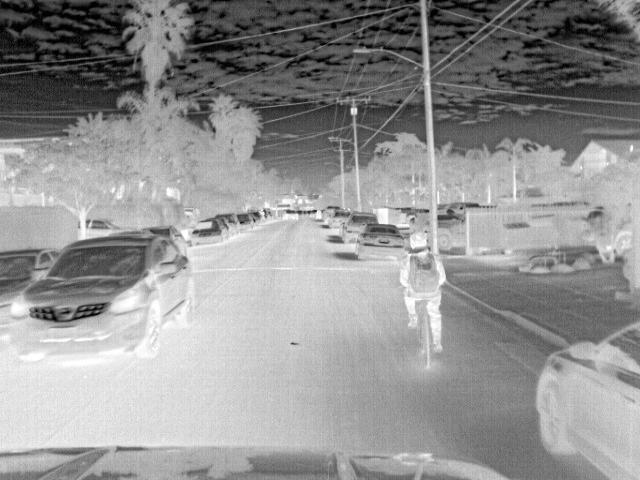car: (10, 233, 192, 364), (531, 321, 638, 476), (1, 246, 56, 340), (352, 221, 408, 261), (336, 212, 380, 243), (181, 219, 225, 244), (436, 214, 466, 250), (83, 218, 123, 241), (212, 212, 242, 232), (445, 200, 481, 214), (322, 205, 344, 224), (329, 210, 350, 229), (280, 207, 299, 221)
person: (398, 234, 447, 356)
